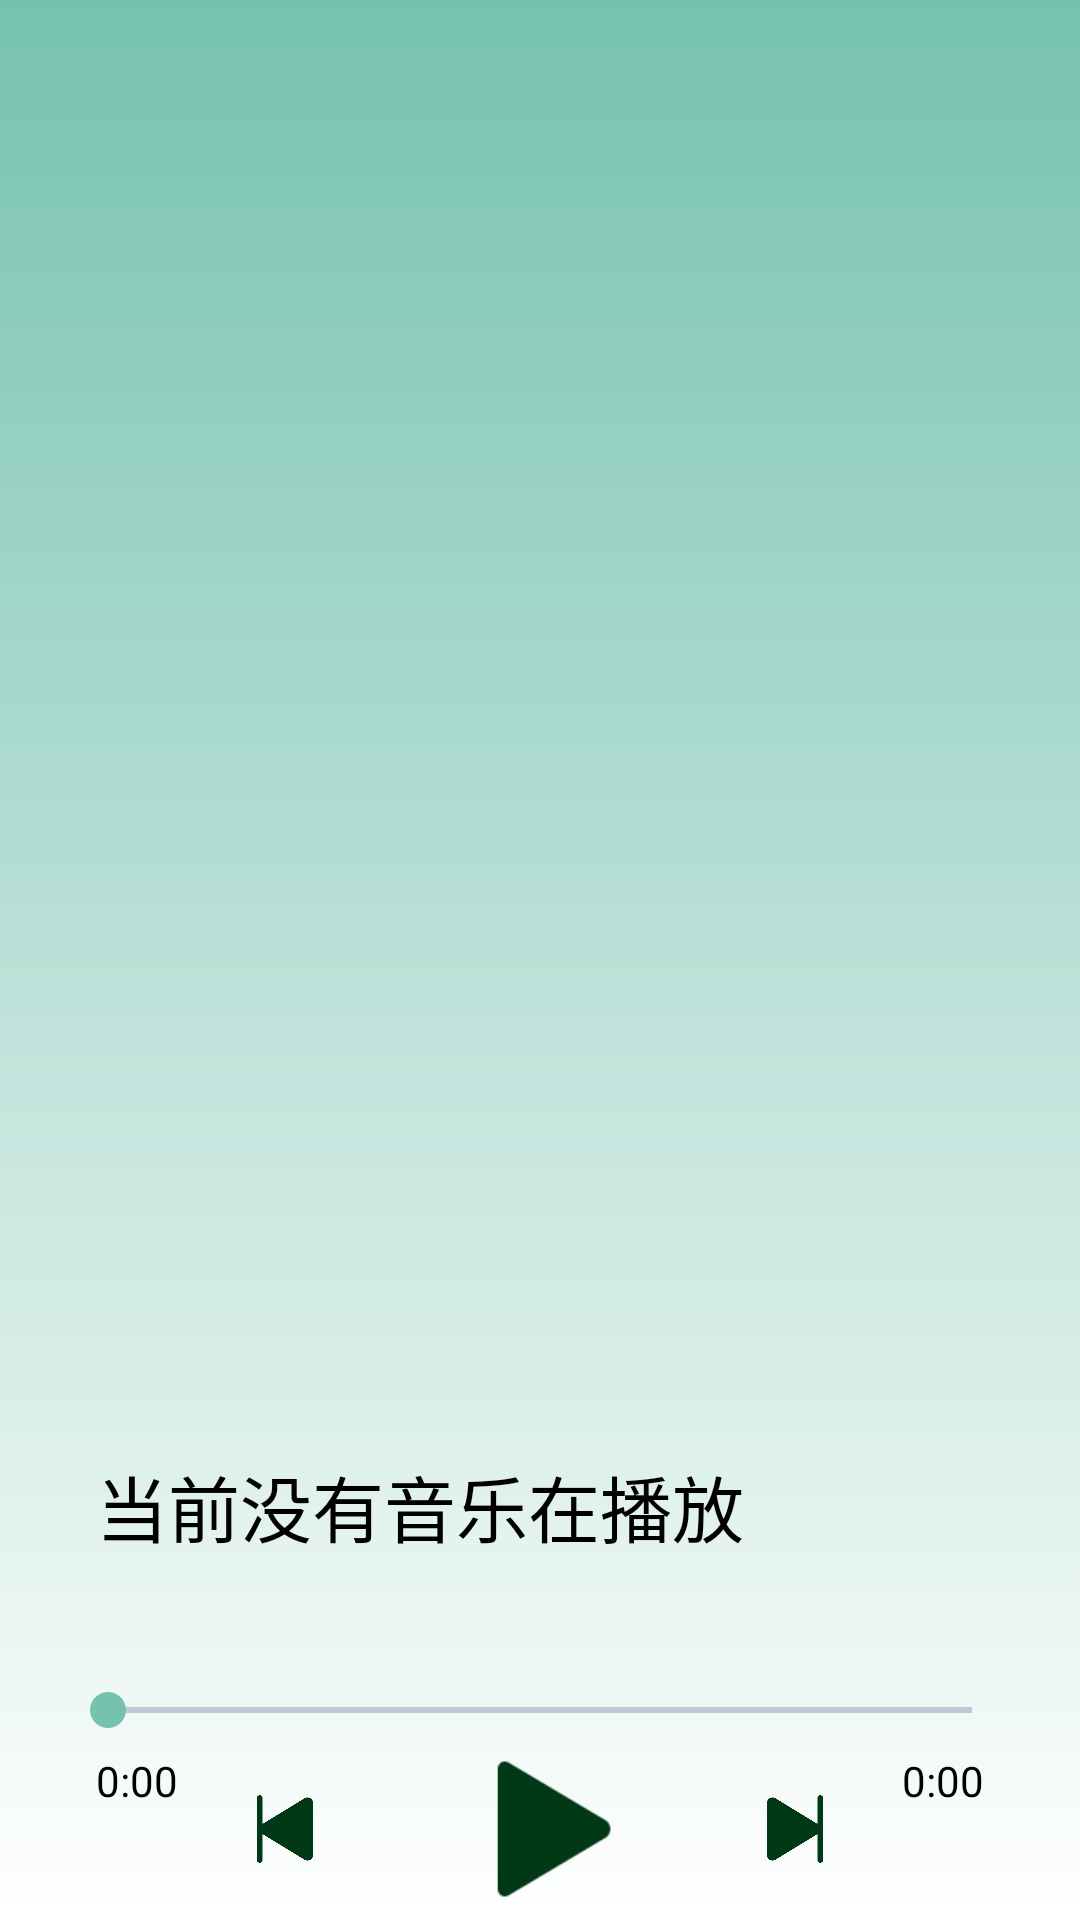

Named icons in this screenshot (1080px x 1920px) and their centers, [x,y]:
forward: [795,1829]
play: [554,1829]
rewind: [285,1829]
